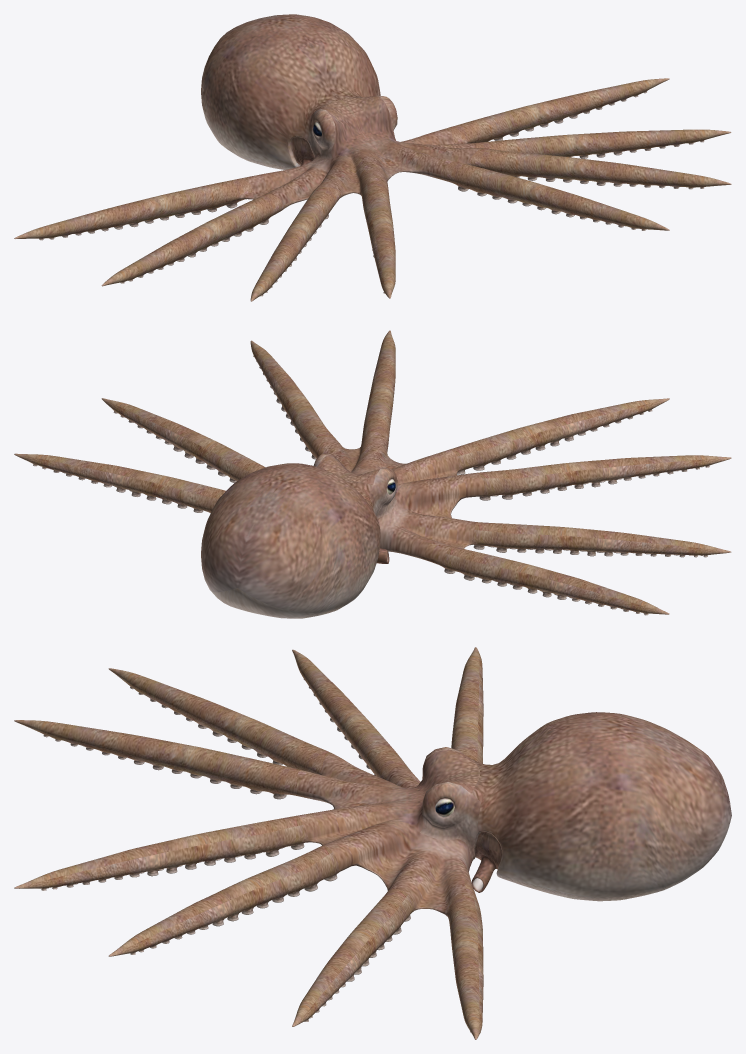
Rendered from Octopus_2.FBX.
The picture shows the model from 3 angles, top to bottom: view 1: azimuth 30°, elevation 25°; view 2: azimuth 150°, elevation 25°; view 3: azimuth 270°, elevation 25°; orthographic projection. The views are drawn at different scales.
Visible parts, largest first — view 1: Sphere02; view 2: Sphere02; view 3: Sphere02.
Part boxes in pixels (bbox=[...]): Sphere02: bbox=[14, 14, 731, 301]; Sphere02: bbox=[14, 330, 731, 618]; Sphere02: bbox=[14, 647, 731, 1039].
Bounding box in the file's own units: 60.76 × 11.42 × 46.95.
1 material, 1 textured.
